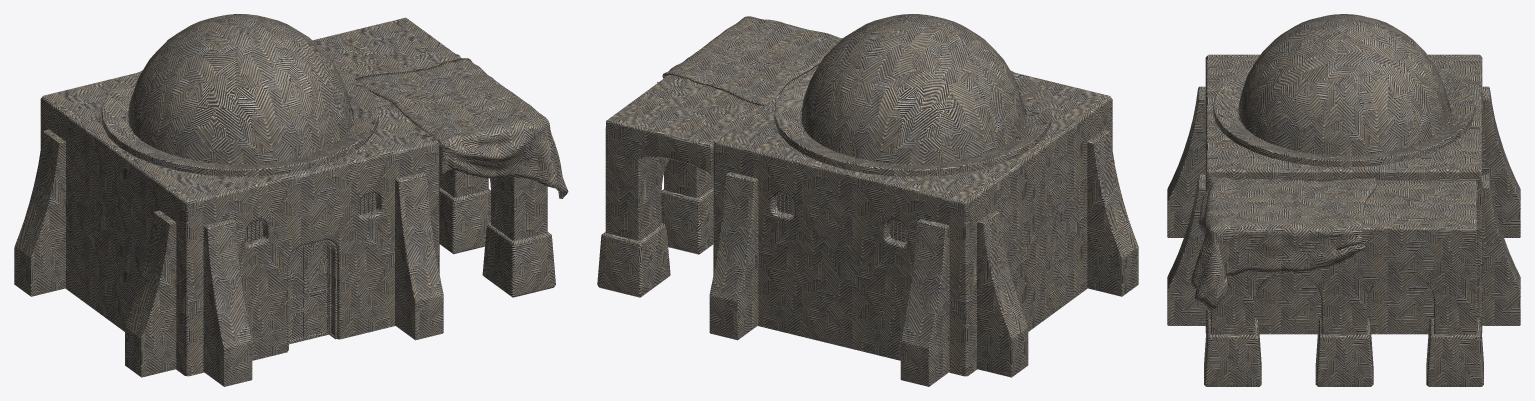
The model's file is casa_tatooine_1.obj.
The picture shows the model from 3 angles, left to right: view 1: azimuth 30°, elevation 25°; view 2: azimuth 150°, elevation 25°; view 3: azimuth 270°, elevation 25°; orthographic projection. The views are drawn at different scales.
Parts seen in each view (by area): view 1: export_SW_house_1a_SWhouse1_mat_0, export_SW_house_1b_SWhouse1_mat_0, export_cloth_cloth_mat_0, export_door1_door_mat_0; view 2: export_SW_house_1a_SWhouse1_mat_0, export_SW_house_1b_SWhouse1_mat_0, export_cloth_cloth_mat_0; view 3: export_SW_house_1a_SWhouse1_mat_0, export_SW_house_1b_SWhouse1_mat_0, export_cloth_cloth_mat_0.
Part boxes in pixels (left/top/right/bottom): export_SW_house_1a_SWhouse1_mat_0: left=14, top=14, right=443, bottom=386; export_SW_house_1b_SWhouse1_mat_0: left=313, top=17, right=555, bottom=297; export_cloth_cloth_mat_0: left=318, top=45, right=568, bottom=198; export_door1_door_mat_0: left=289, top=242, right=329, bottom=344; export_SW_house_1a_SWhouse1_mat_0: left=709, top=14, right=1138, bottom=386; export_SW_house_1b_SWhouse1_mat_0: left=597, top=65, right=818, bottom=297; export_cloth_cloth_mat_0: left=657, top=16, right=842, bottom=141; export_SW_house_1a_SWhouse1_mat_0: left=1167, top=14, right=1520, bottom=334; export_SW_house_1b_SWhouse1_mat_0: left=1204, top=180, right=1483, bottom=386; export_cloth_cloth_mat_0: left=1190, top=153, right=1470, bottom=311.
Size of the model in its own units: 1.62 by 1 by 1.27.
1 material, 1 textured.
